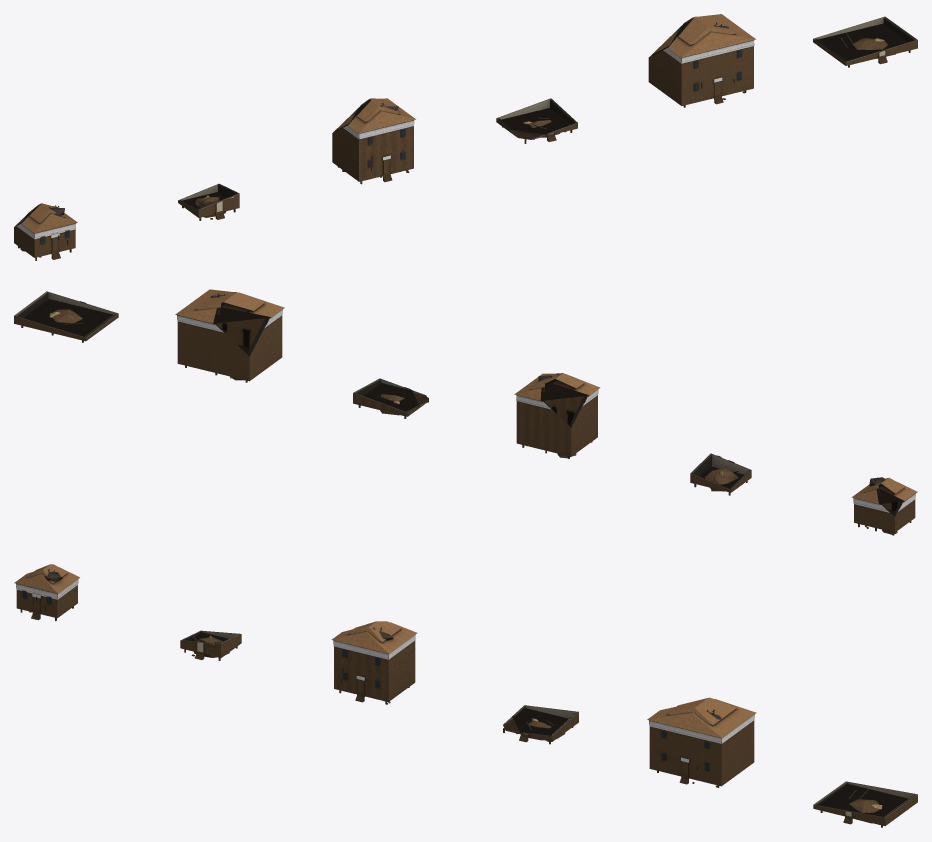
Rendered from kingdoms-monsoon-houses-damage.glb.
3 renders of one model, top to bottom at view 1: azimuth 30°, elevation 25°; view 2: azimuth 150°, elevation 25°; view 3: azimuth 330°, elevation 25°, orthographic.
Parts seen in each view (by area): view 1: LOD0.004, LOD0.002, LOD0.005, LOD0, LOD0.003, LOD0.001; view 2: LOD0.004, LOD0.002, LOD0.005, LOD0, LOD0.003, LOD0.001; view 3: LOD0.004, LOD0.002, LOD0.005, LOD0, LOD0.003, LOD0.001.
Part boxes in pixels (x1=…): LOD0.004: x1=648, y1=14, x2=755, y2=107; LOD0.002: x1=332, y1=98, x2=415, y2=184; LOD0.005: x1=813, y1=16, x2=917, y2=67; LOD0: x1=14, y1=203, x2=77, y2=260; LOD0.003: x1=496, y1=98, x2=577, y2=143; LOD0.001: x1=178, y1=183, x2=239, y2=220; LOD0.004: x1=175, y1=289, x2=284, y2=382; LOD0.002: x1=514, y1=373, x2=600, y2=458; LOD0.005: x1=14, y1=291, x2=118, y2=342; LOD0: x1=851, y1=477, x2=917, y2=535; LOD0.003: x1=353, y1=378, x2=428, y2=418; LOD0.001: x1=690, y1=453, x2=751, y2=495; LOD0.004: x1=647, y1=697, x2=756, y2=787; LOD0.002: x1=331, y1=621, x2=417, y2=704; LOD0.005: x1=813, y1=781, x2=917, y2=827; LOD0: x1=14, y1=564, x2=79, y2=621; LOD0.003: x1=503, y1=705, x2=578, y2=744; LOD0.001: x1=180, y1=630, x2=241, y2=660.
Size of what is drawn, in the model's own units: 16.07 by 1.19 by 1.14.
Materials: 2 (2 with a texture image).
